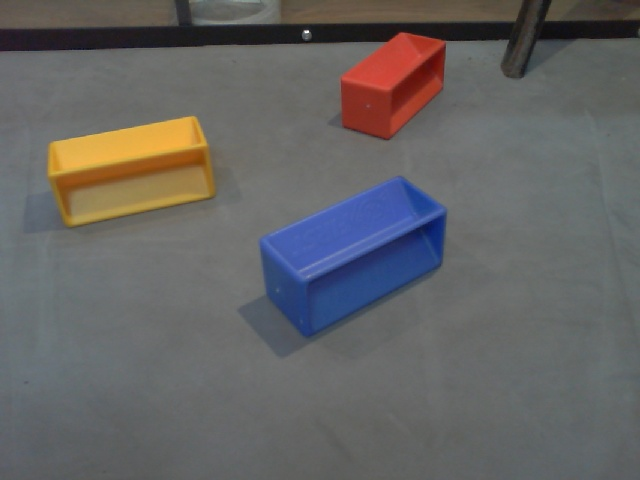BlueSample: (252, 172, 450, 340)
RedSample: (335, 28, 447, 143)
YellowSample: (46, 115, 219, 228)
